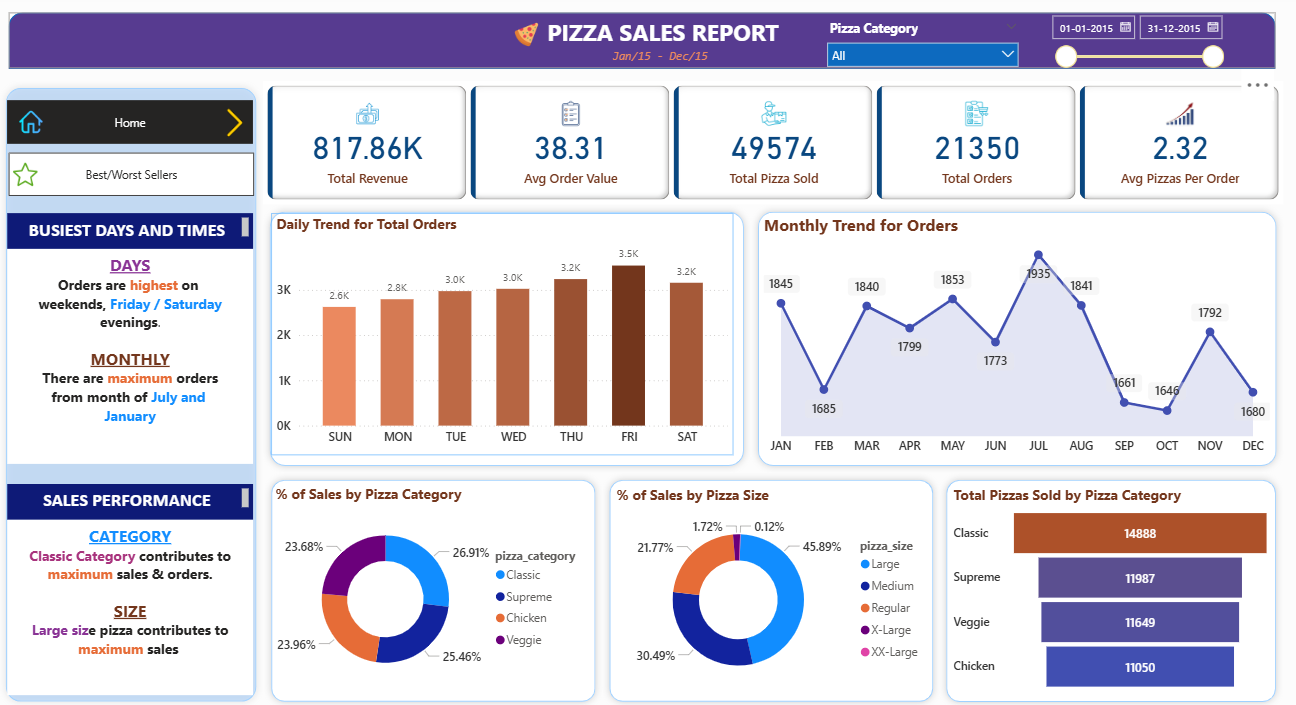

This screenshot's page, from the dashboard's own definition file:
{"tool":"powerbi","page":{"name":"Home","canvas":[1500,820],"ordinal":0},"visuals":[{"type":"shape","box":[0,94.3,305.7,725.7],"z":0},{"type":"textbox","box":[10,247.1,284.3,41.4],"z":1000},{"type":"cardVisual","fields":{"Data":["pizza_sales.Total Revenue","pizza_sales.Avg Order Value","pizza_sales.Total pizza sold","pizza_sales.Total Orders","pizza_sales.Avg Pizzas Per Order"]},"box":[305.7,94.3,1180,142.9],"z":2000},{"type":"shape","box":[10.6,14.3,1465.6,65.6],"z":3000},{"type":"textbox","box":[620,12.9,295.7,45.7],"z":4000},{"type":"textbox","box":[704.3,48.6,128.6,30],"z":5000},{"type":"image","box":[590,20,40,38.6],"z":6000},{"type":"shape","box":[305.7,237.1,564.3,310],"z":7000},{"type":"columnChart","title":"Daily Trend for Total Orders","fields":{"Category":["pizza_sales.Order Day"],"Y":["pizza_sales.Total Orders"]},"box":[315.7,247.1,534.3,280],"z":8000},{"type":"shape","box":[870,237.1,615.7,310],"z":9000},{"type":"areaChart","title":"Monthly Trend for Orders","fields":{"Category":["pizza_sales.Order Month"],"Y":["pizza_sales.Total Orders"]},"box":[880,247.1,595.7,290],"z":10000},{"type":"shape","box":[306.5,546.8,391,272.6],"z":11000},{"type":"shape","box":[698.4,546.8,390.3,272.6],"z":12000},{"type":"shape","box":[1088.6,547.1,397.1,272.9],"z":13000},{"type":"donutChart","title":"% of Sales by Pizza Category","fields":{"Category":["pizza_sales.pizza_category"],"Y":["pizza_sales.Total Revenue"]},"box":[315.7,560,372.9,244.3],"z":14000},{"type":"donutChart","title":"% of Sales by Pizza Size","fields":{"Category":["pizza_sales.pizza_size"],"Y":["pizza_sales.Total Revenue"]},"box":[710,561.4,371.4,242.9],"z":15000},{"type":"funnel","title":"Total Pizzas Sold by Pizza Category","fields":{"Category":["pizza_sales.pizza_category"],"Y":["pizza_sales.Total Pizza Sold"]},"box":[1098.6,561.4,377.1,242.9],"z":16000},{"type":"textbox","box":[10,288.6,284.3,248.6],"z":17000},{"type":"textbox","box":[10,560,284.3,41.4],"z":18000},{"type":"textbox","box":[10,601.4,284.3,202.9],"z":19000},{"type":"slicer","fields":{"Values":["pizza_sales.pizza_category"]},"box":[948.6,17.1,241.4,61.4],"z":20000},{"type":"slicer","fields":{"Values":["pizza_sales.order_date"]},"box":[1205.7,8,219.5,79.5],"z":21000},{"type":"pageNavigator","box":[10,115.7,284.3,50],"z":22000},{"type":"pageNavigator","box":[11.4,177.1,284.3,50],"z":23000},{"type":"image","box":[251.4,115.7,42.9,51.4],"z":24000},{"type":"image","box":[11.4,177.1,38.6,50],"z":25000},{"type":"image","box":[11.4,122.9,51.4,37.1],"z":26000}]}

Visuals, with their boxes in screenshot pixels (x1, y1, x2, y2), scaled from the page's 1500x820 canvas onto the 1296x705 screenshot:
shape: BBox(0, 81, 264, 704)
textbox: BBox(9, 212, 254, 248)
cardVisual - pizza_sales.Total Revenue x pizza_sales.Avg Order Value: BBox(264, 81, 1284, 204)
shape: BBox(9, 12, 1275, 69)
textbox: BBox(536, 11, 791, 50)
textbox: BBox(609, 42, 720, 68)
image: BBox(510, 17, 544, 50)
shape: BBox(264, 204, 752, 470)
"Daily Trend for Total Orders" columnChart: BBox(273, 212, 734, 453)
shape: BBox(752, 204, 1284, 470)
"Monthly Trend for Orders" areaChart: BBox(760, 212, 1275, 462)
shape: BBox(265, 470, 603, 704)
shape: BBox(603, 470, 941, 704)
shape: BBox(941, 470, 1284, 704)
"% of Sales by Pizza Category" donutChart: BBox(273, 481, 595, 692)
"% of Sales by Pizza Size" donutChart: BBox(613, 483, 934, 692)
"Total Pizzas Sold by Pizza Category" funnel: BBox(949, 483, 1275, 692)
textbox: BBox(9, 248, 254, 462)
textbox: BBox(9, 481, 254, 517)
textbox: BBox(9, 517, 254, 692)
slicer - pizza_sales.pizza_category: BBox(820, 15, 1028, 67)
slicer - pizza_sales.order_date: BBox(1042, 7, 1231, 75)
pageNavigator: BBox(9, 99, 254, 142)
pageNavigator: BBox(10, 152, 255, 195)
image: BBox(217, 99, 254, 144)
image: BBox(10, 152, 43, 195)
image: BBox(10, 106, 54, 138)
